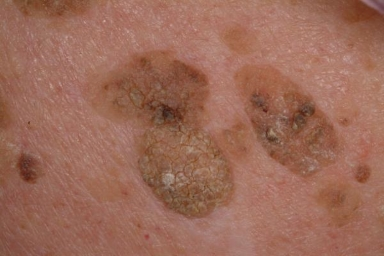seborrheic keratosis: (57, 19, 363, 228)
